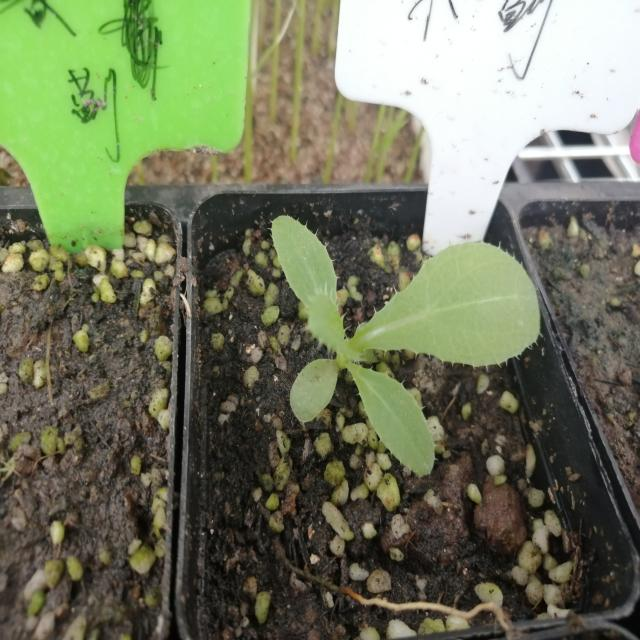field_thistle: (273, 200, 552, 472)
